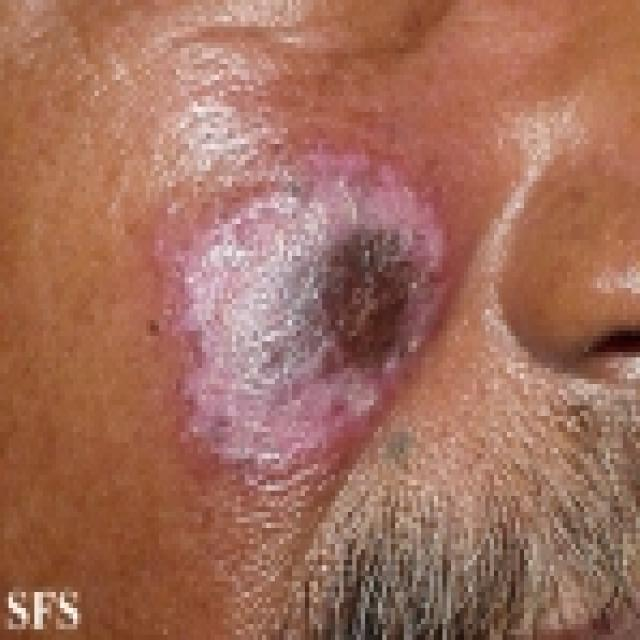lupus: (158, 134, 452, 503)
